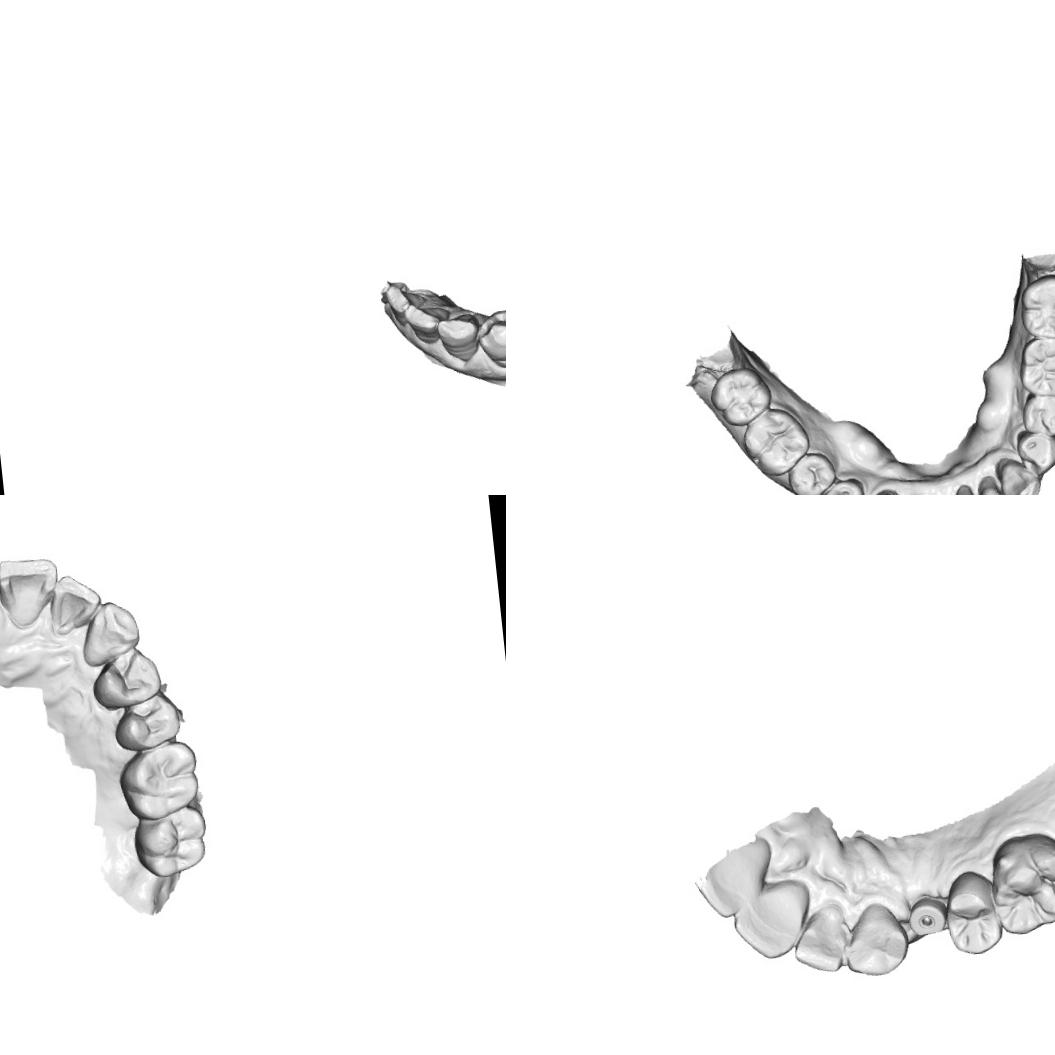canine: (837, 898, 914, 980), (76, 597, 144, 669), (435, 312, 483, 363), (997, 458, 1044, 495)
implant: (906, 892, 952, 940)
incisor: (690, 838, 779, 921), (728, 882, 811, 963), (0, 553, 64, 630), (786, 899, 850, 976), (43, 570, 106, 638), (402, 300, 454, 347), (382, 281, 426, 319), (973, 483, 1016, 495)
molar: (984, 827, 1055, 939), (113, 738, 204, 824), (129, 803, 212, 882), (739, 404, 813, 480), (707, 365, 774, 429), (1016, 270, 1055, 342), (1015, 334, 1055, 401)
premolar: (940, 866, 1004, 958), (87, 643, 166, 713), (108, 690, 185, 757), (785, 450, 838, 495), (474, 306, 506, 371), (1015, 429, 1055, 476), (1019, 392, 1055, 440), (818, 477, 868, 495)
